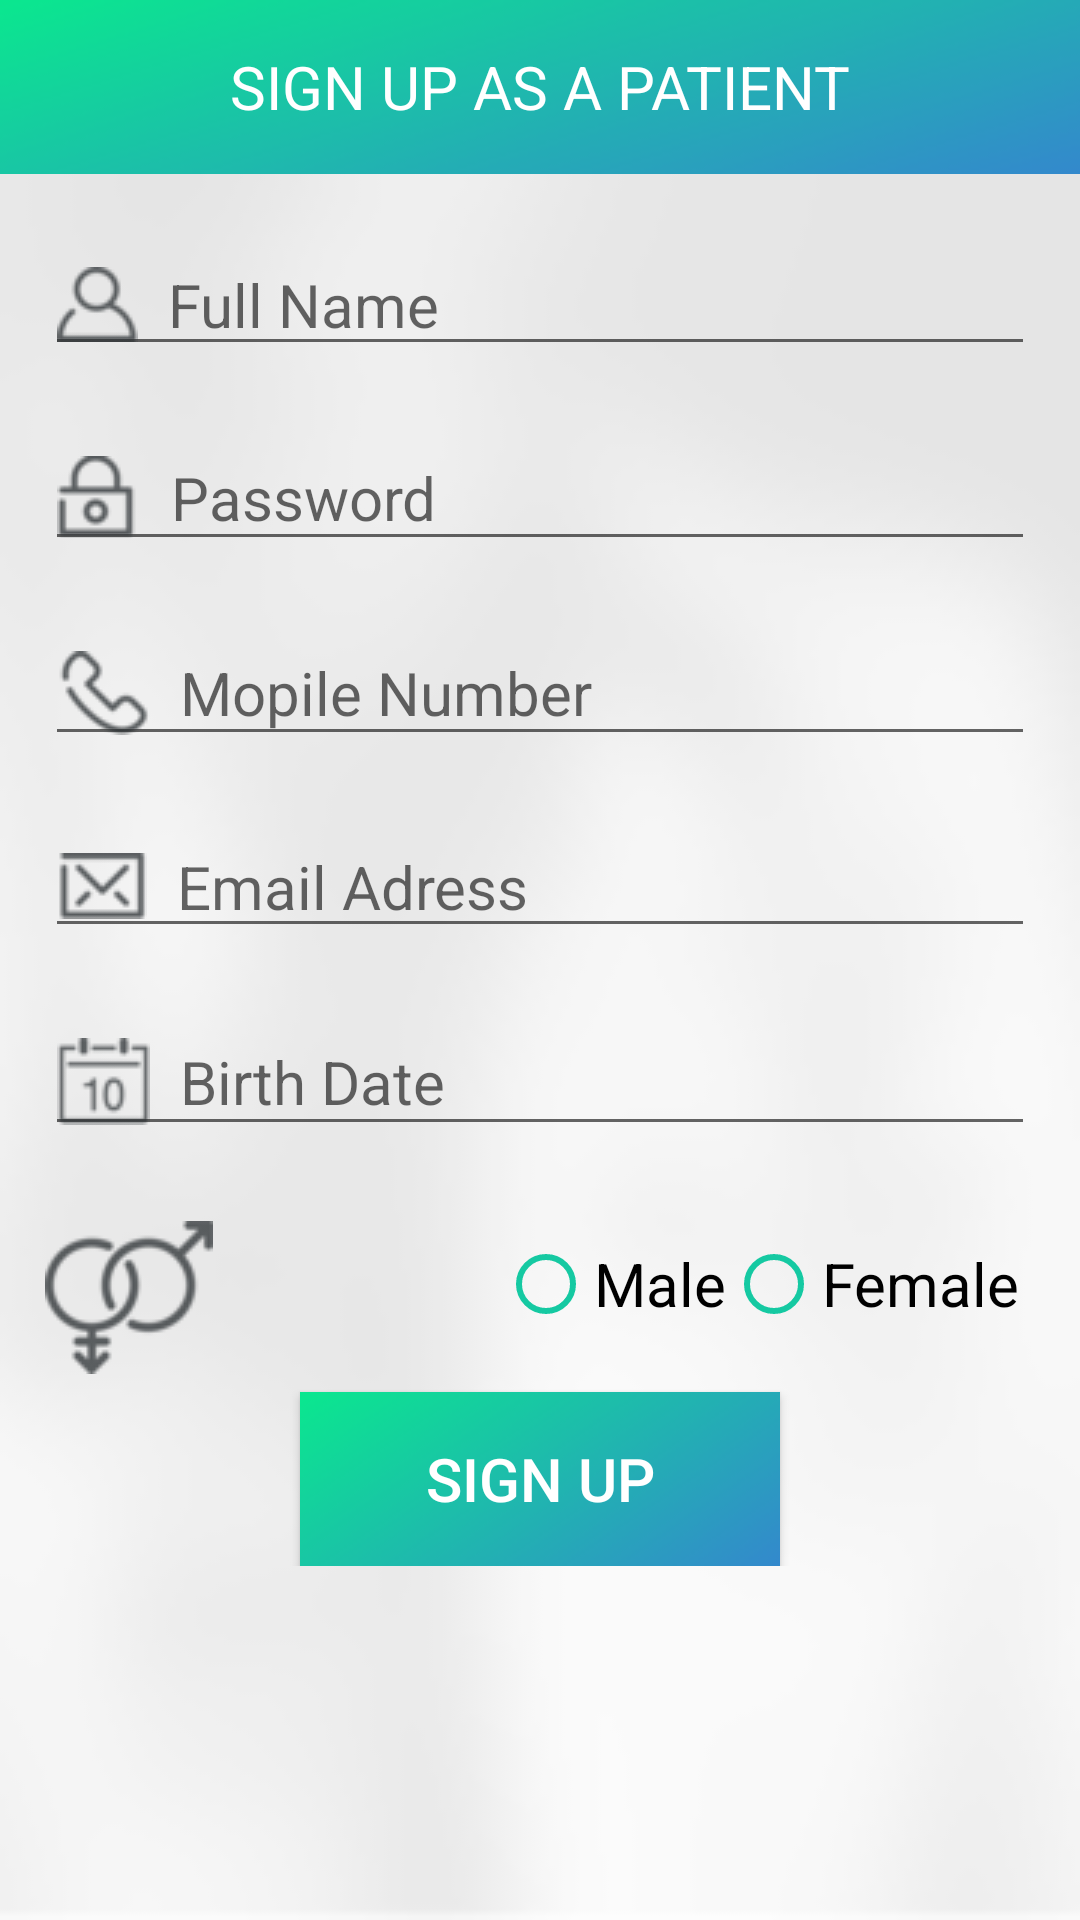

Icons on this 1080px×1920px Android screen, each with the point to tap as [x,y]:
gendericon: [129,1297]
